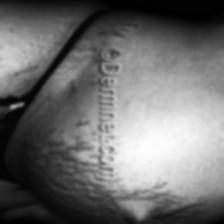Toxin: (29, 131, 88, 221), (38, 191, 190, 224), (102, 6, 144, 38)
